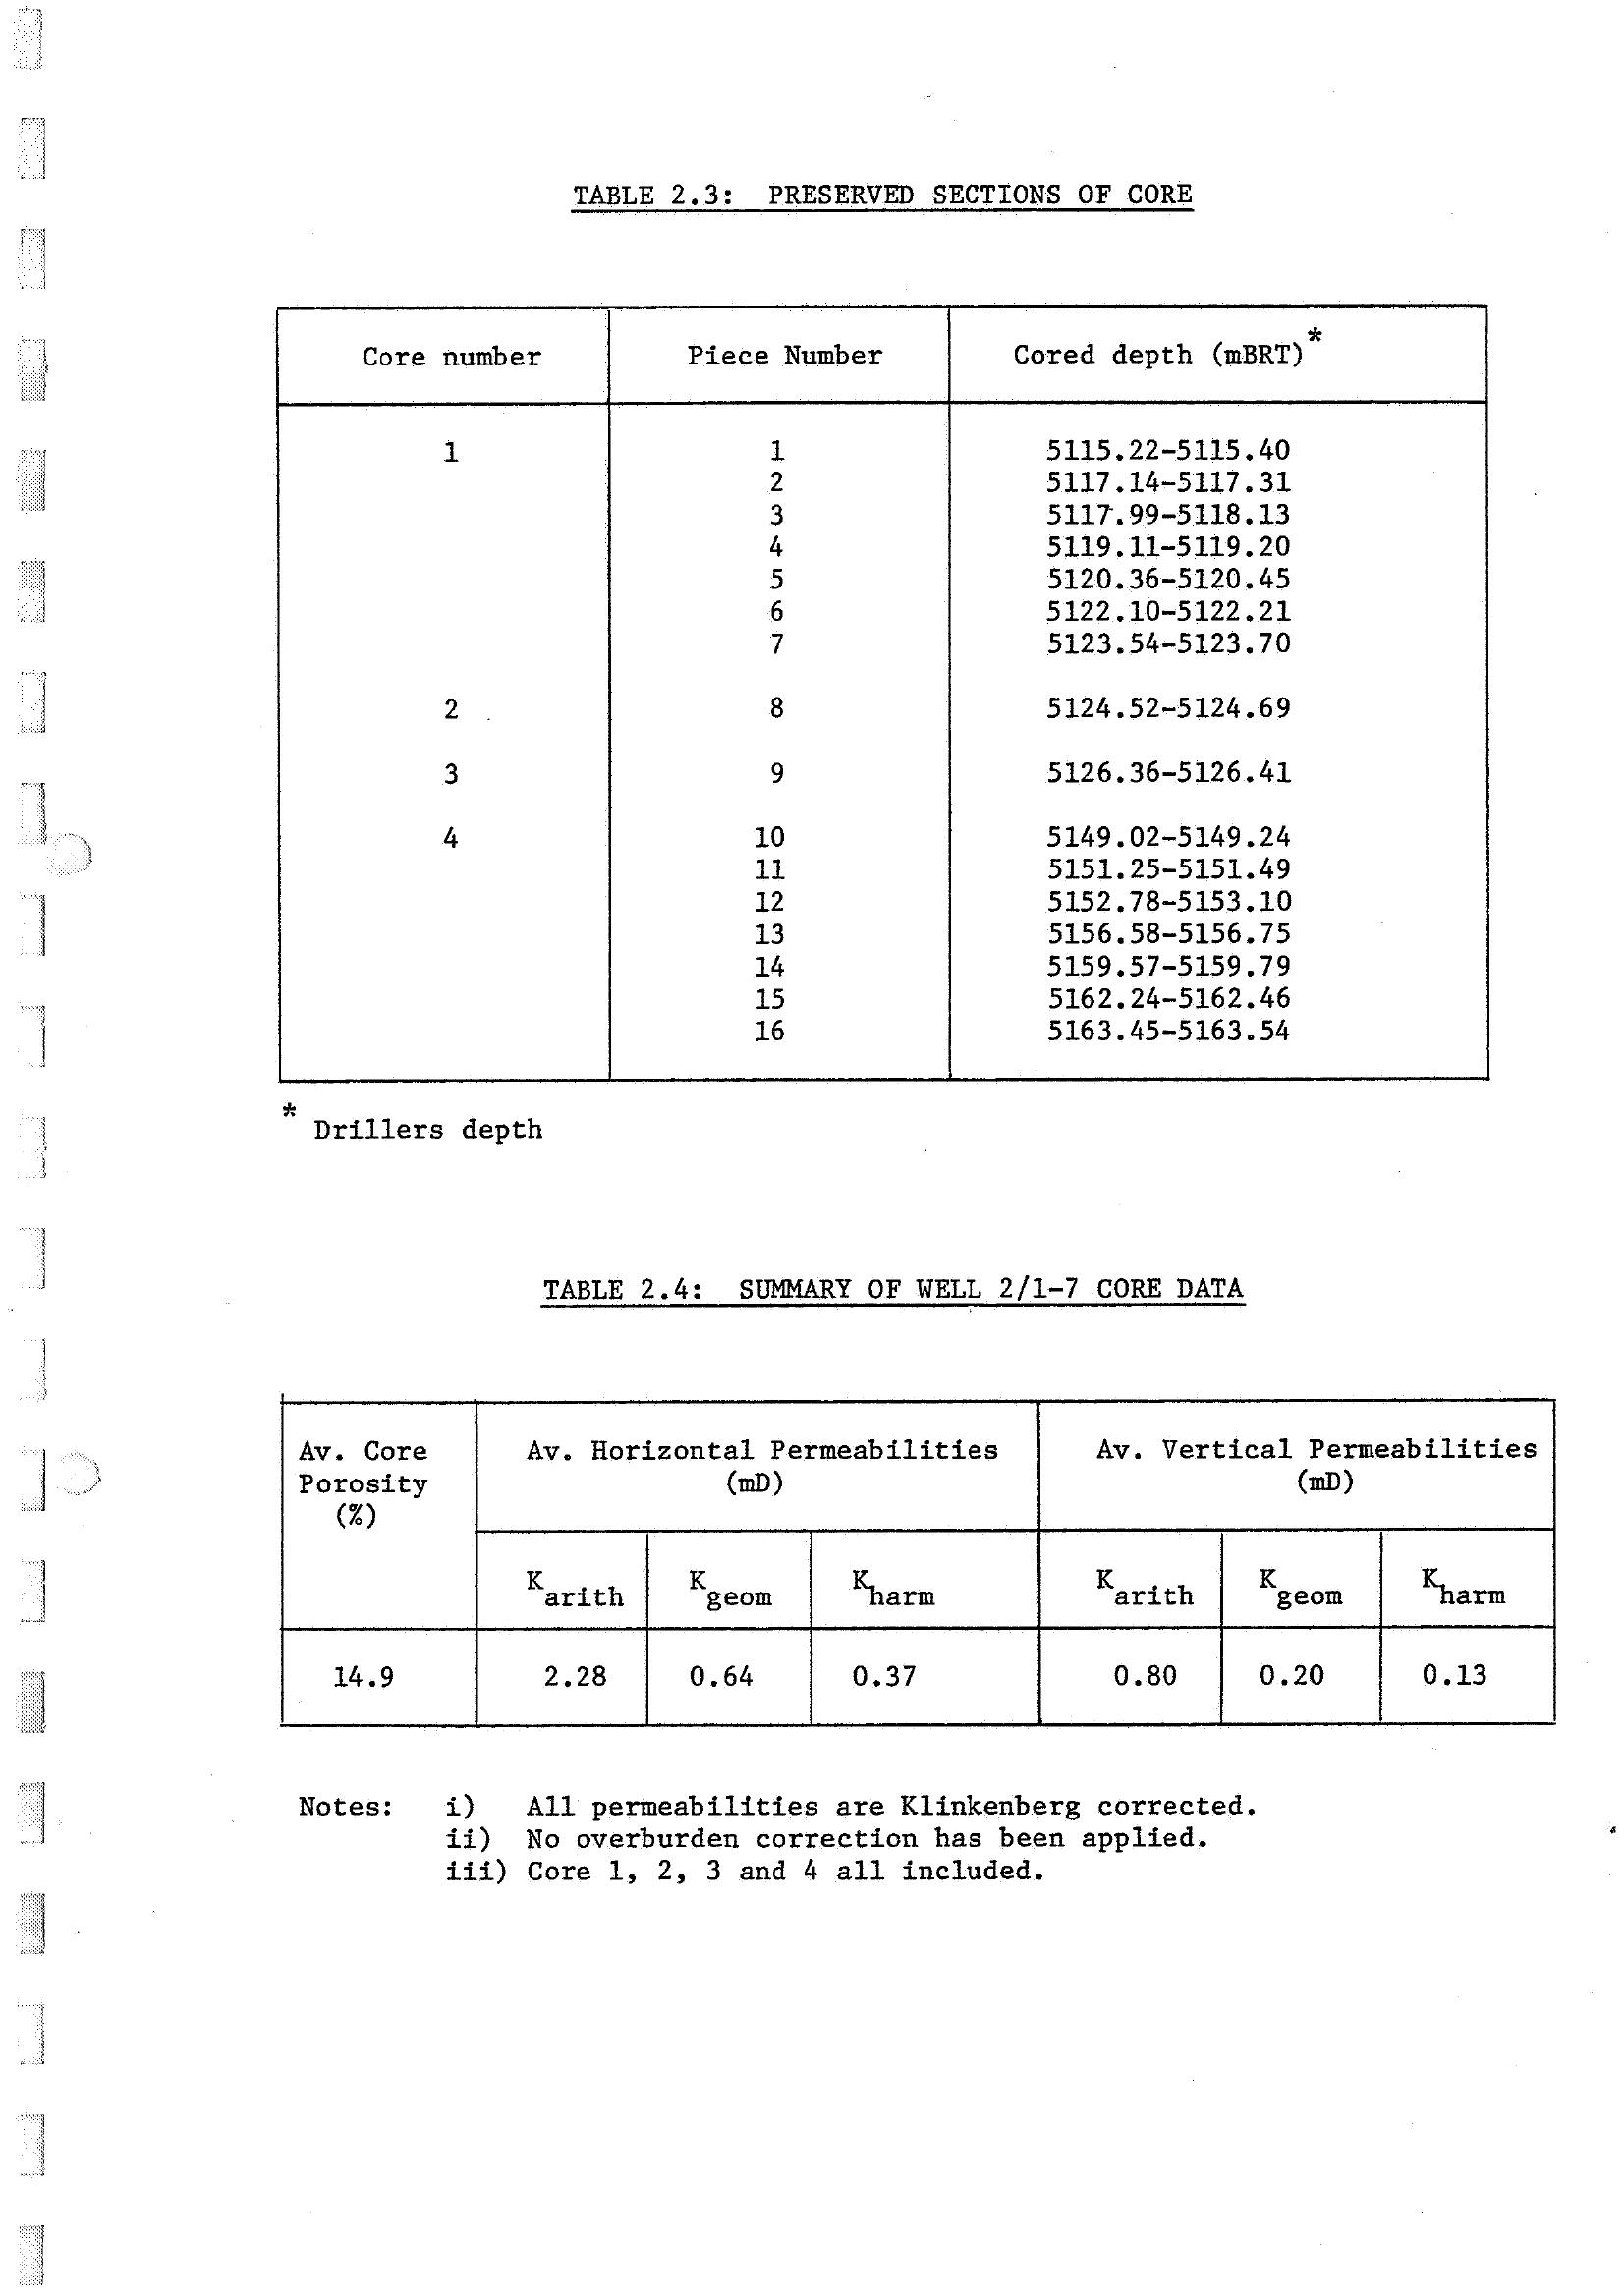table: (251, 163, 1503, 1088), (264, 1265, 1584, 1741)
text: (285, 1764, 1288, 1906), (262, 1098, 561, 1160)
